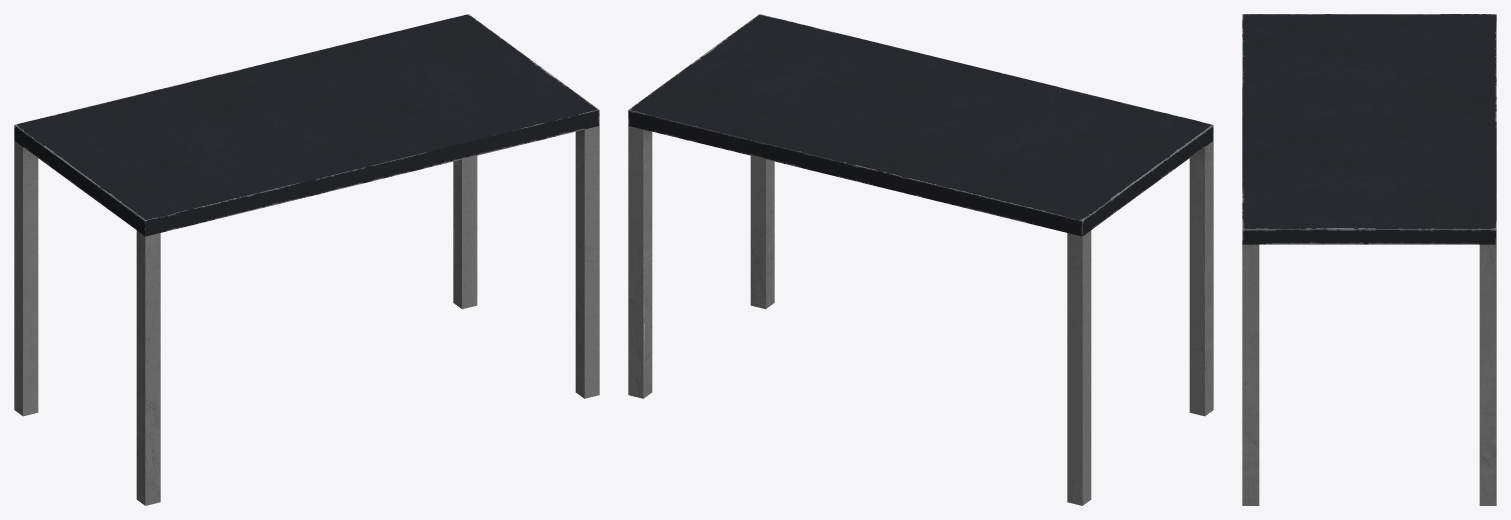
Rendered from metal_table.glb.
3 views of the same model, side by side, from view 1: azimuth 30°, elevation 25°; view 2: azimuth 150°, elevation 25°; view 3: azimuth 270°, elevation 25° (orthographic). The views are drawn at different scales.
Parts seen in each view (by area): view 1: table5:polySurface1; view 2: table5:polySurface1; view 3: table5:polySurface1.
Boxes of the visible parts, x1,y1,x2,y2 form: table5:polySurface1: [14, 14, 599, 505]; table5:polySurface1: [628, 14, 1213, 505]; table5:polySurface1: [1242, 14, 1496, 505].
Bounding box in the file's own units: 2 × 1.2 × 1.
Materials: 1 (1 with a texture image).
